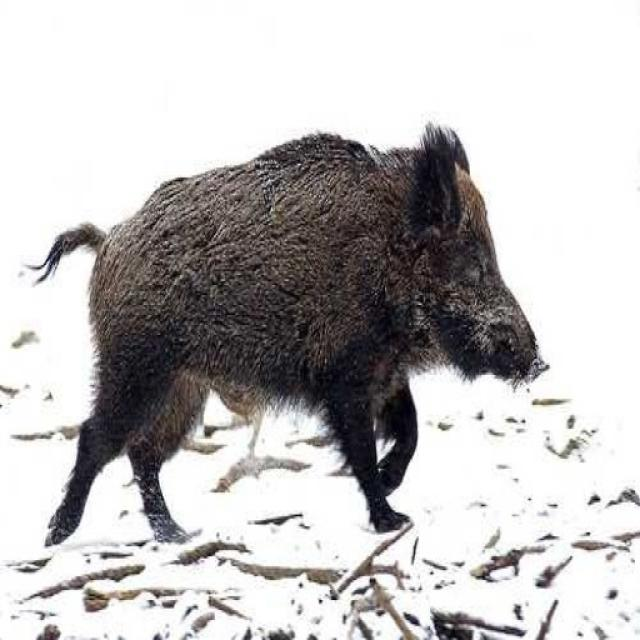pig: (44, 104, 552, 541)
